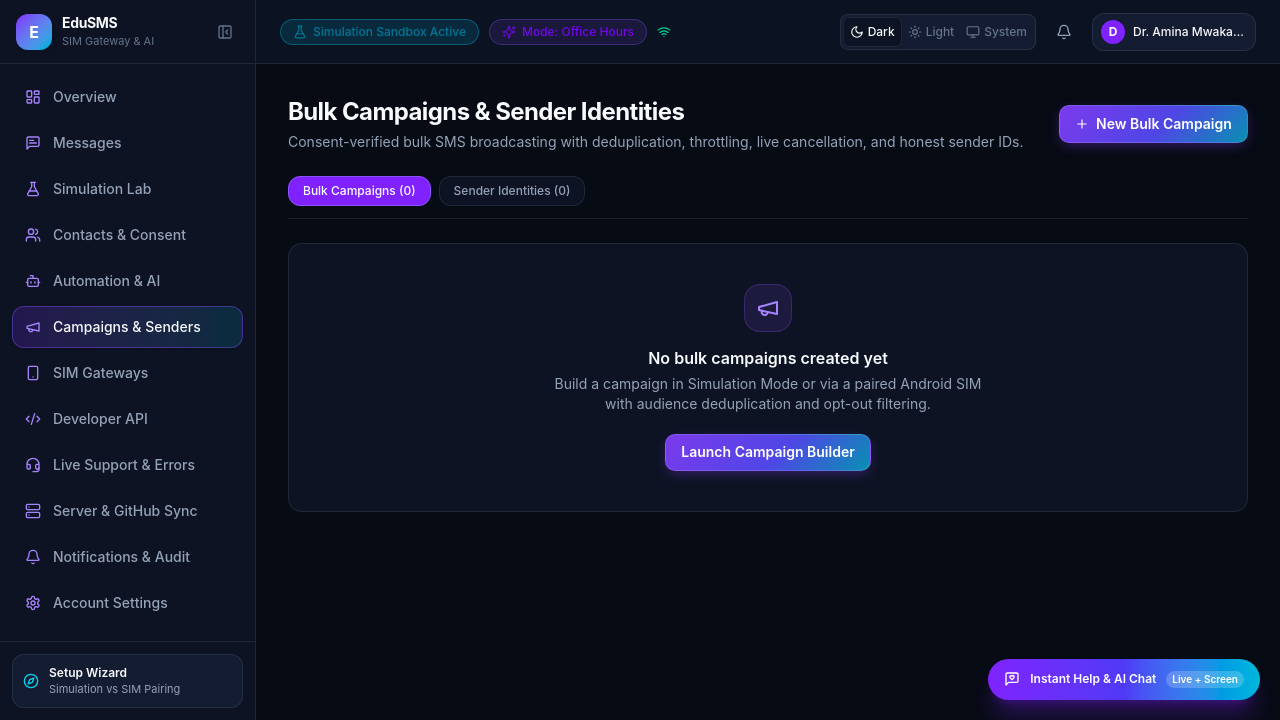
Test: Campaign Builder Audience Preview & Developer Platform Security Flows › previews bulk campaign audience deduplication, eligible recipients, and opt-out exclusions
Expected: the heading "Bulk Campaigns & Sender Identities" is shown, [288,96,684,128]
Click the button "New Bulk Campaign".
click(1153, 124)  # box [1059,105,1248,143]
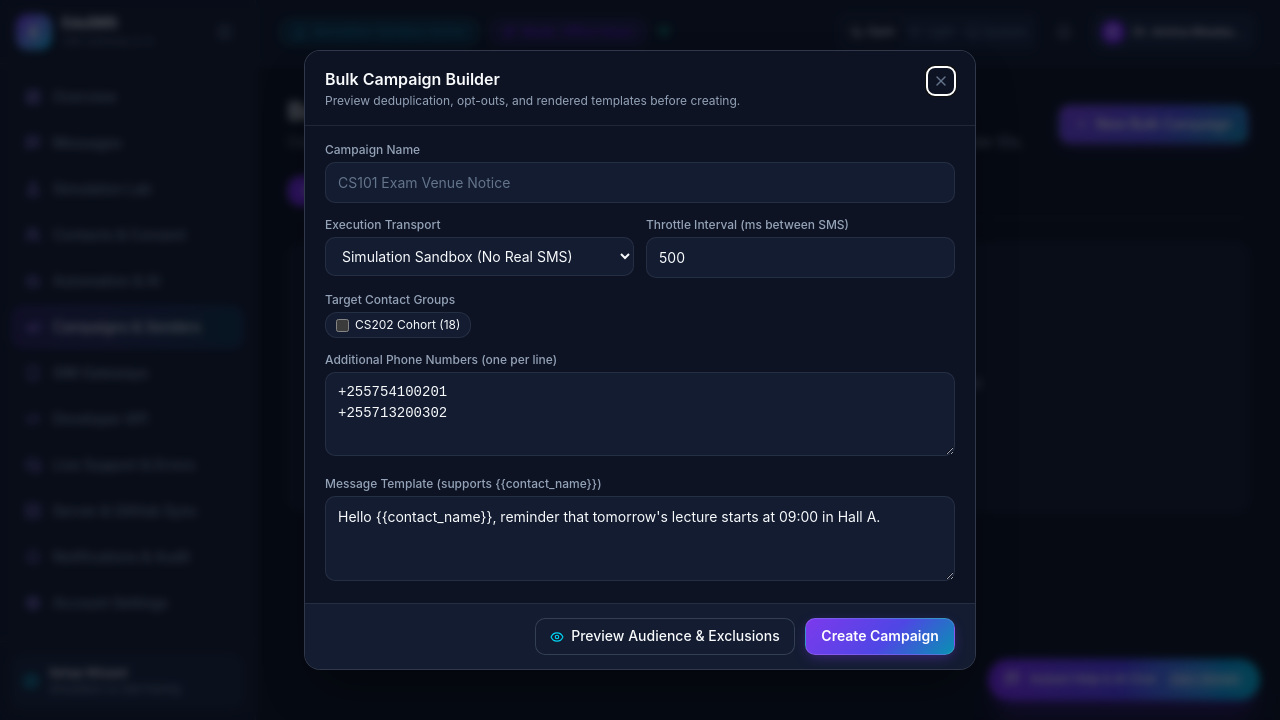
Click the button "Preview Audience & Exclusions".
click(665, 637)  # box [535,618,795,655]
(page scrolled)
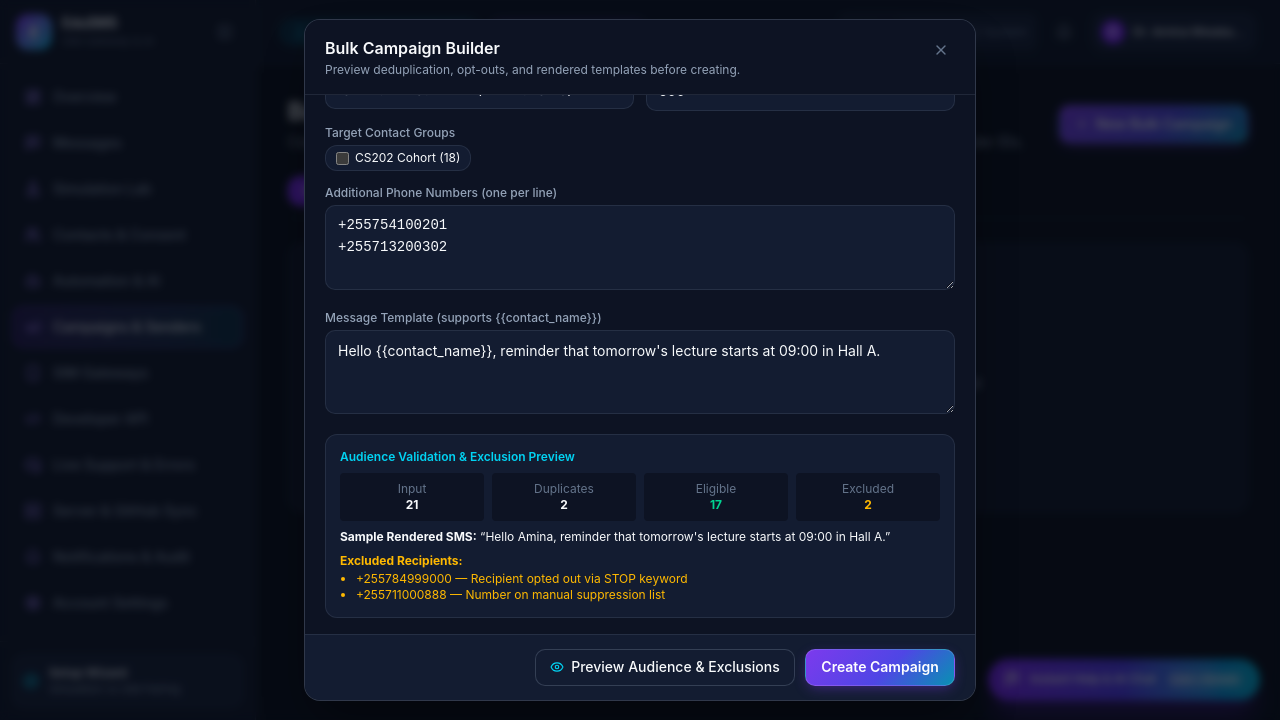
Expected: the element named "Audience preview summary" shows "21", [406,497,418,512]
Expected: the element named "Audience preview summary" shows "17", [710,497,722,512]
Expected: the element named "Audience preview summary" shows "Recipient opted out via STOP keyword", [471,571,688,586]
